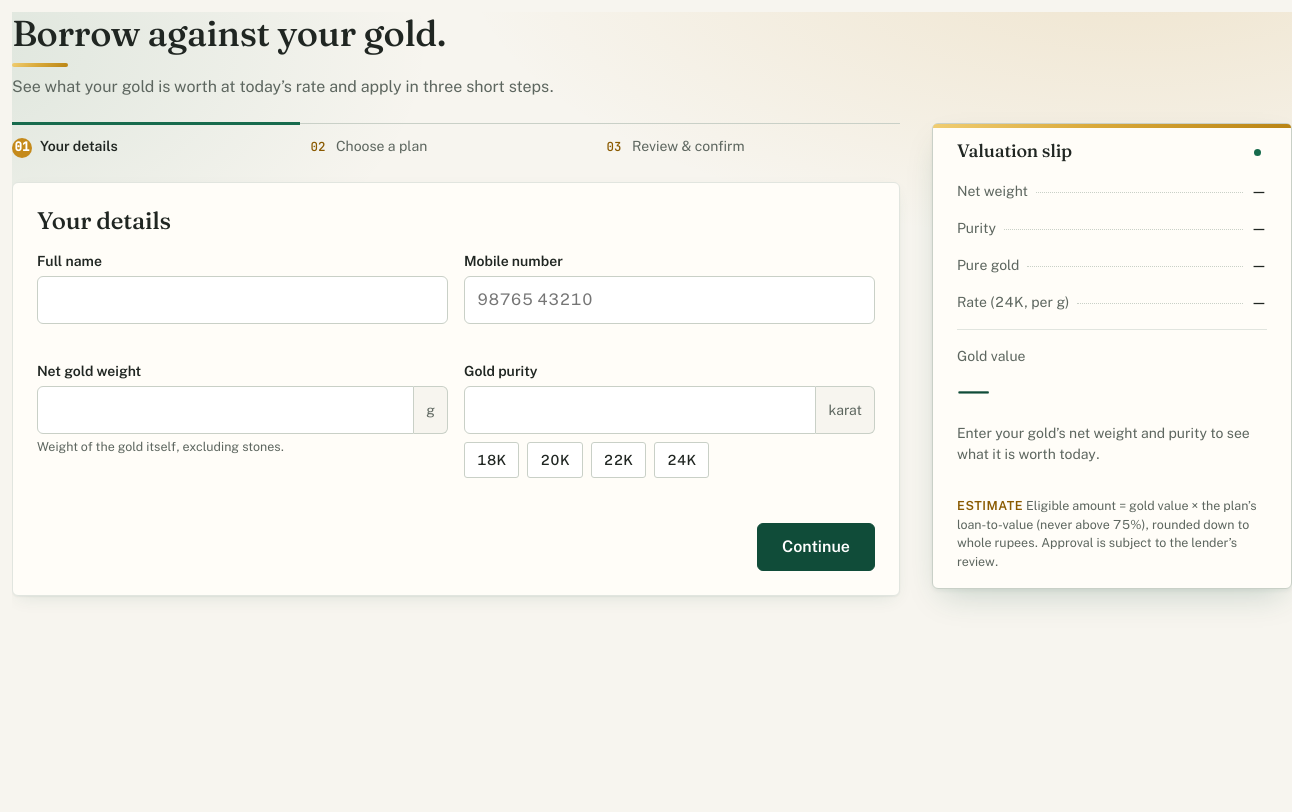
ApplicationFlow › shows inline validation as the user types
Type "123" into the field labelled "Mobile number".
click(670, 300); type("123")  # box left=464, top=276, right=875, bottom=324
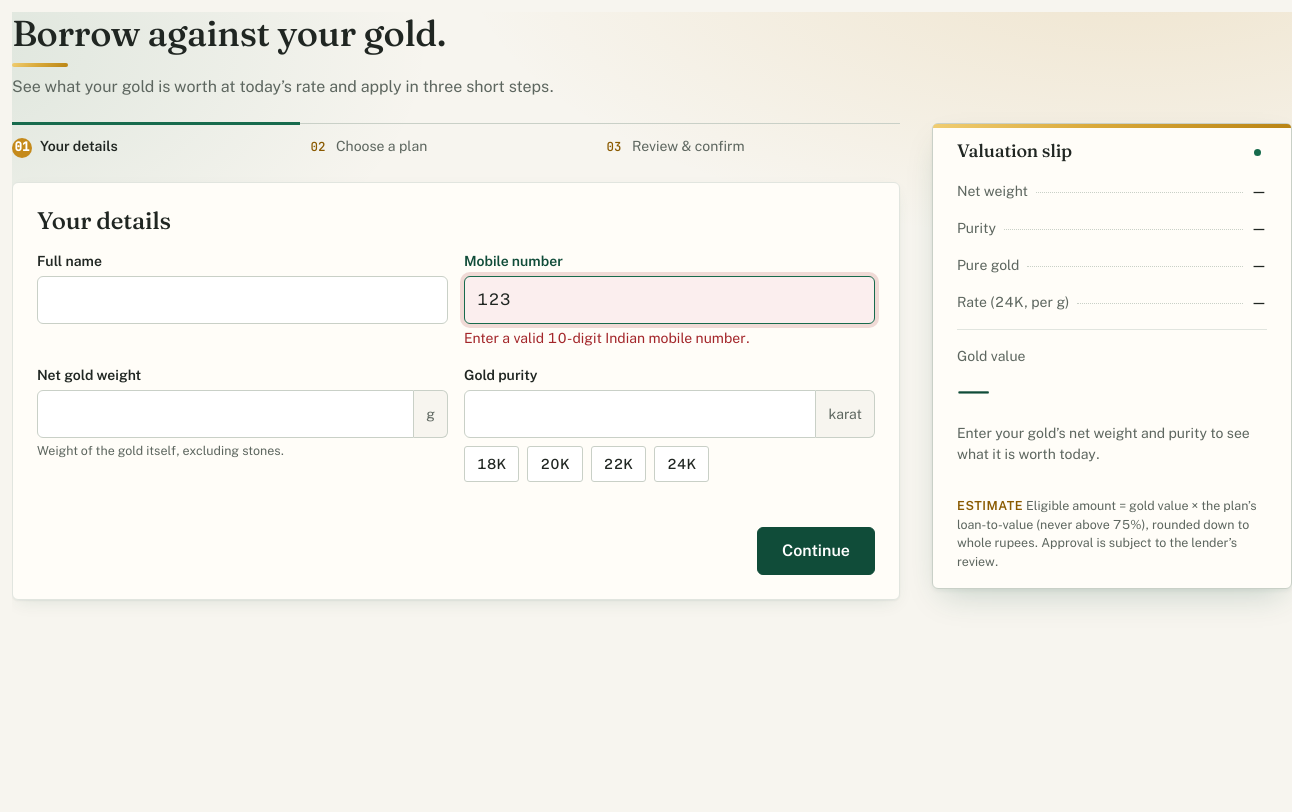
Now the text "Enter a valid 10-digit Indian mobile number." is shown, box left=464, top=330, right=750, bottom=346
Type "0" into the field labelled "Net gold weight".
click(226, 414); type("0")  # box left=37, top=390, right=414, bottom=438
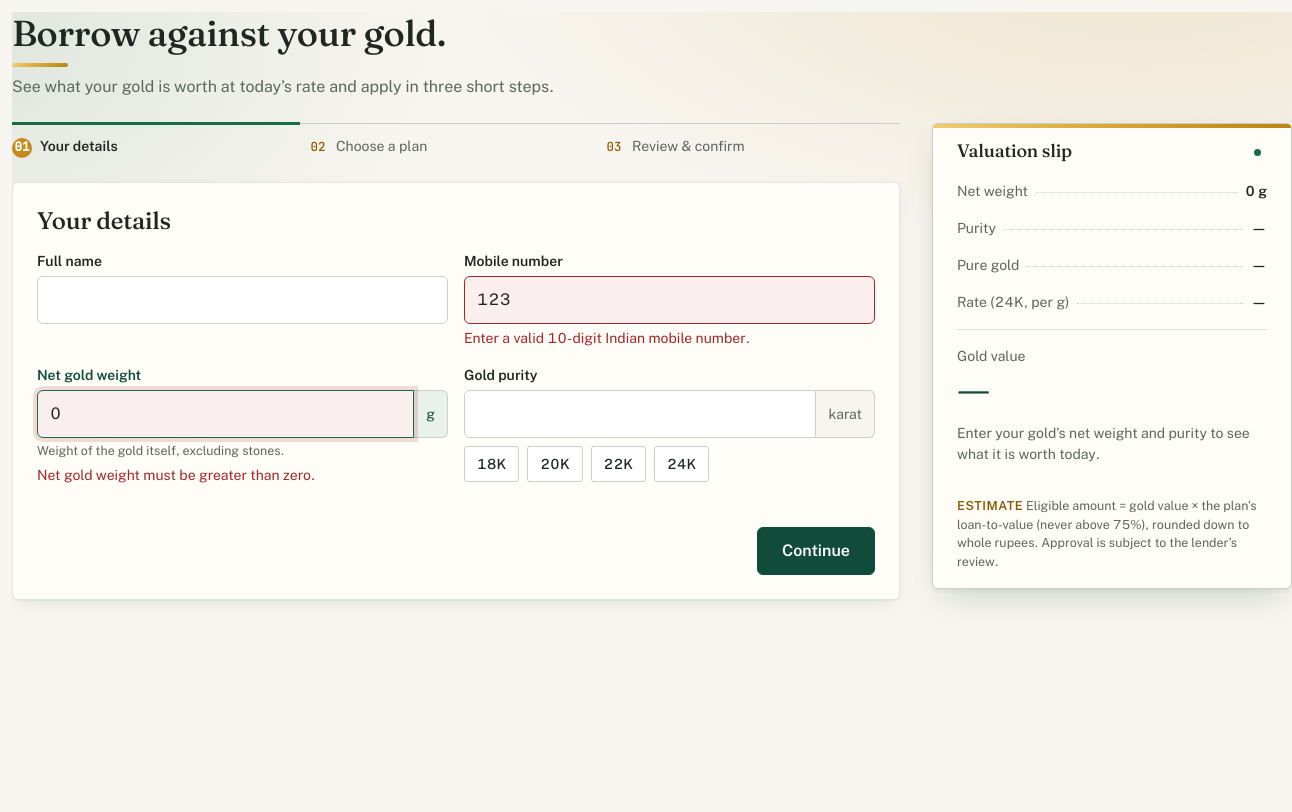
Now the text "Net gold weight must be greater than zero." is shown, box left=37, top=467, right=315, bottom=483
Replace the text in the field labelled "Mobile number" with "9876543210" at point(670, 300), box left=464, top=276, right=875, bottom=324
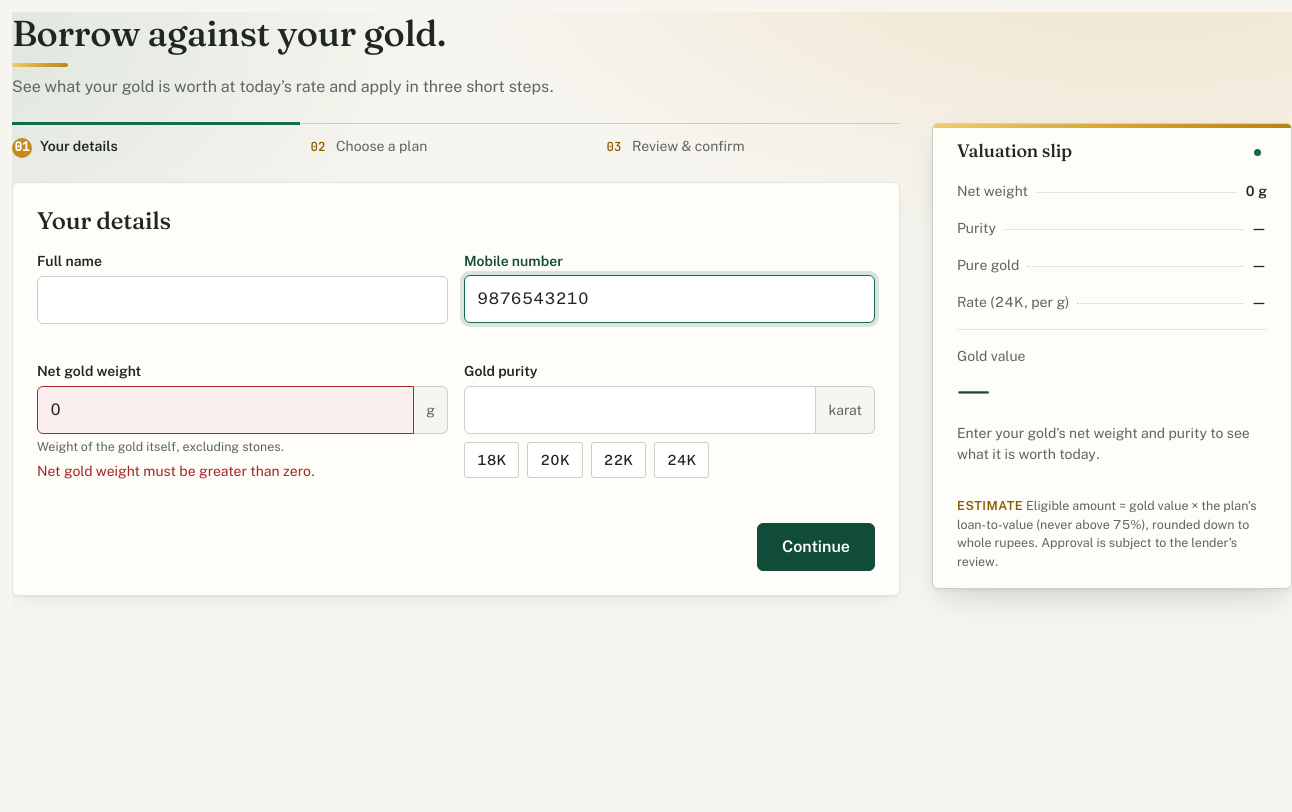
Now the text "valid 10-digit Indian mobile" is gone
